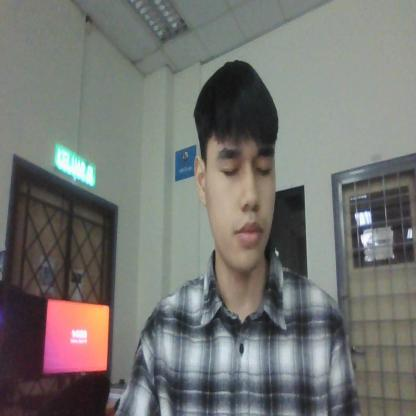Closed-Eyes: (210, 140, 278, 188)
